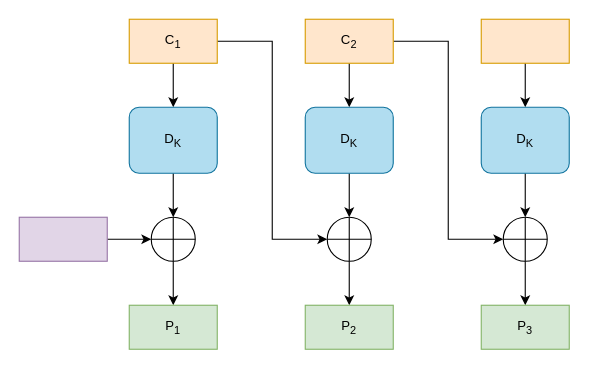
Some shapes in this 589 by 369 pixel diagram are drawn without their labels. Here are the shapes that lost their labels. From the top down, the centre of each, then its label:
the point at 524,40: C 3
the point at 62,238: IV
